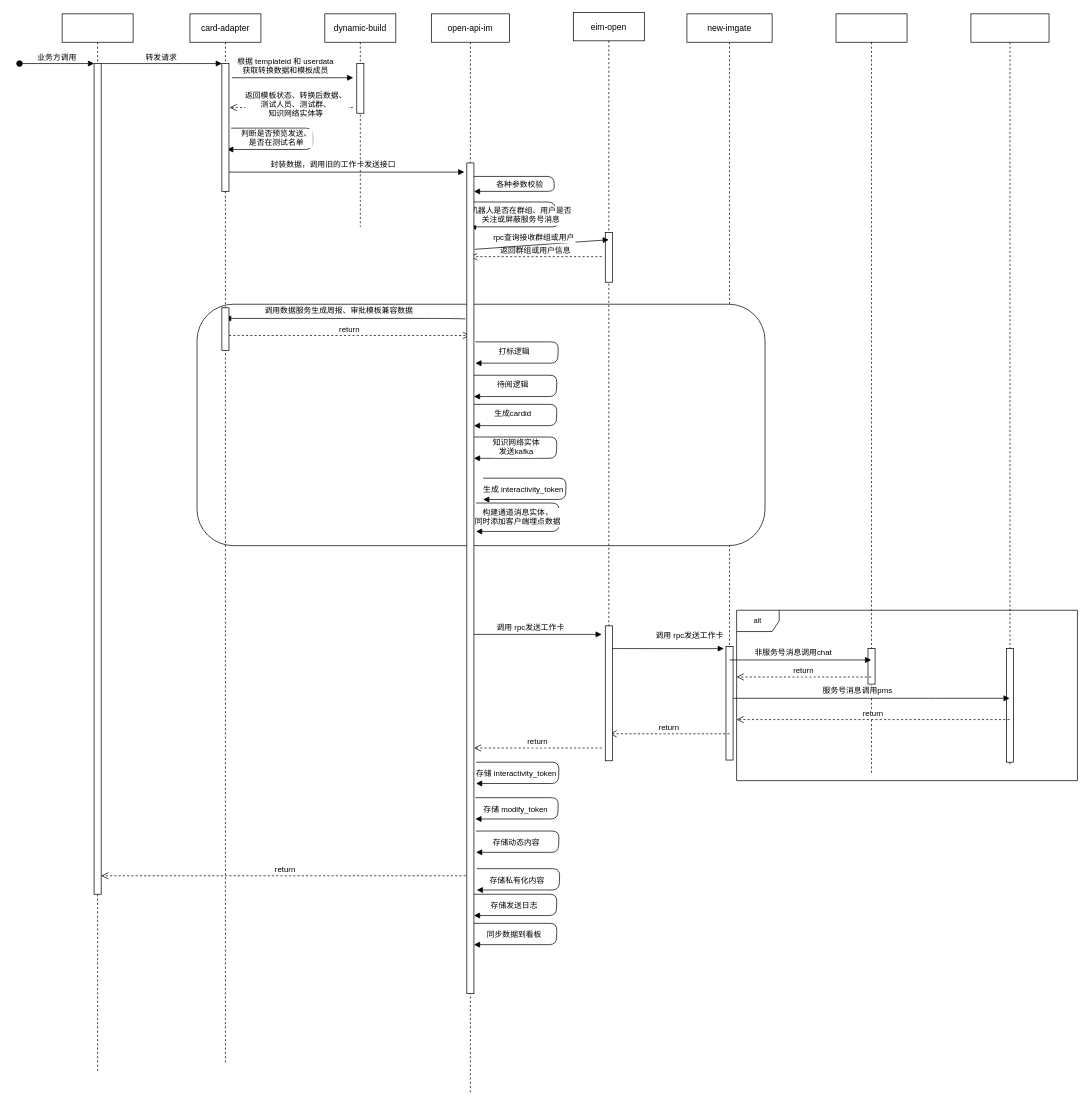
Some shapes in this 1090 by 1105 pixel diagram are drawn without their labels. The box of each missing label's shape, as (x1, y1, x2, y2) in pixels:
chat: (835, 13, 907, 774)
open-gateway: (61, 13, 133, 1072)
pms: (970, 13, 1049, 766)
